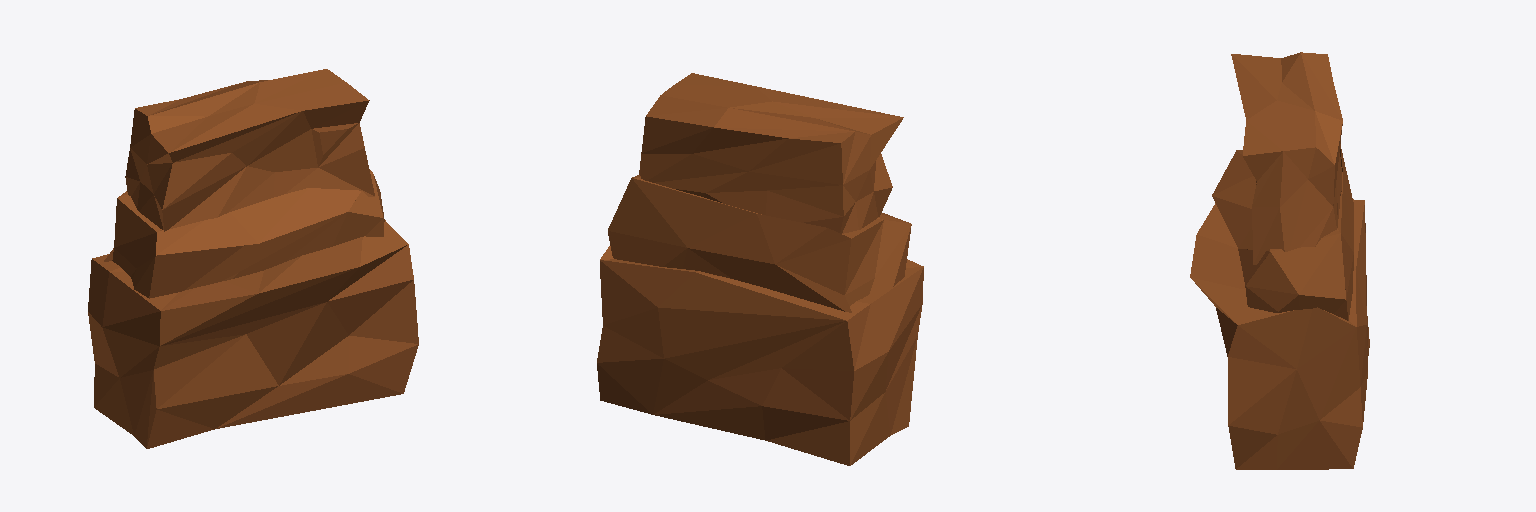
The picture shows the model from 3 angles: view 1: azimuth 30°, elevation 25°; view 2: azimuth 150°, elevation 25°; view 3: azimuth 270°, elevation 25°; orthographic projection.
Size of the model in its own units: 1354 by 1469 by 769.
Materials: 1 (1 with a texture image).